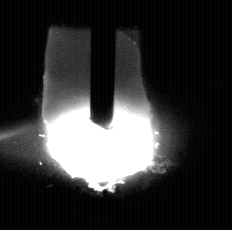arame: (90, 0, 116, 131)
poca: (46, 0, 155, 230)
